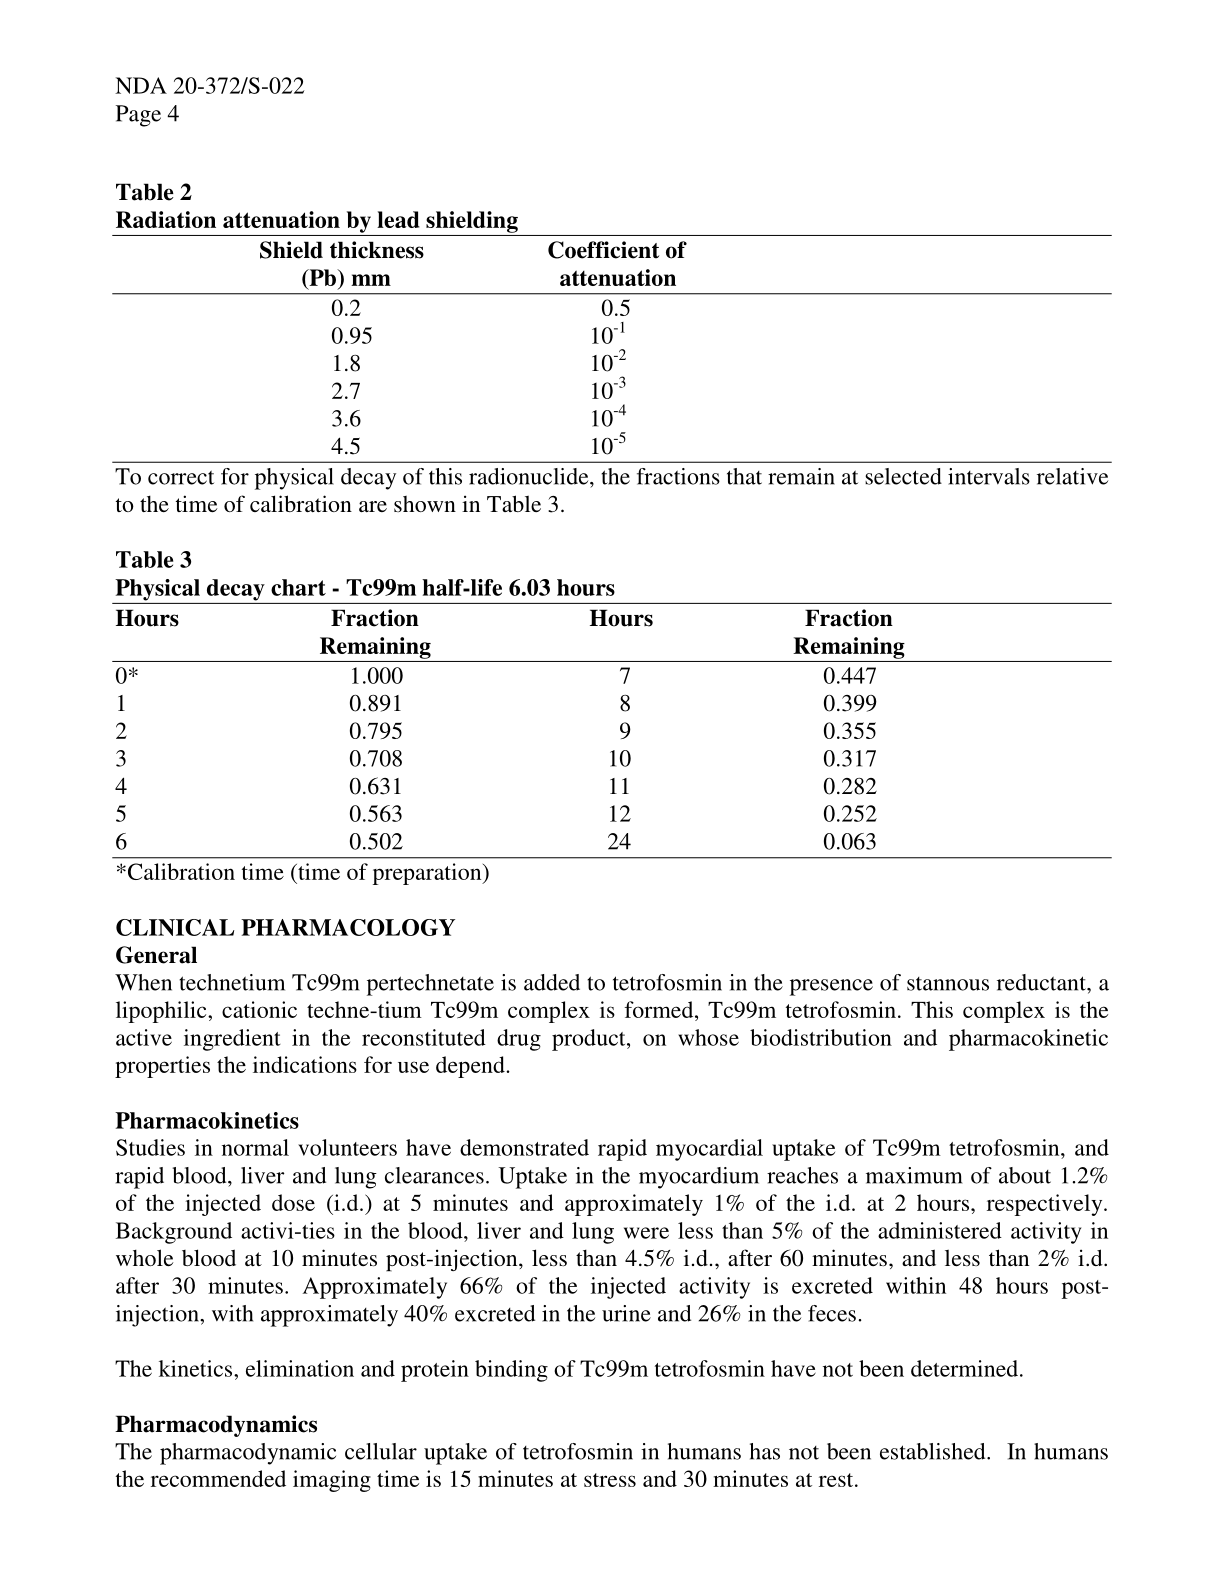partial_lined: (111, 600, 1117, 861), (108, 230, 1116, 464)
